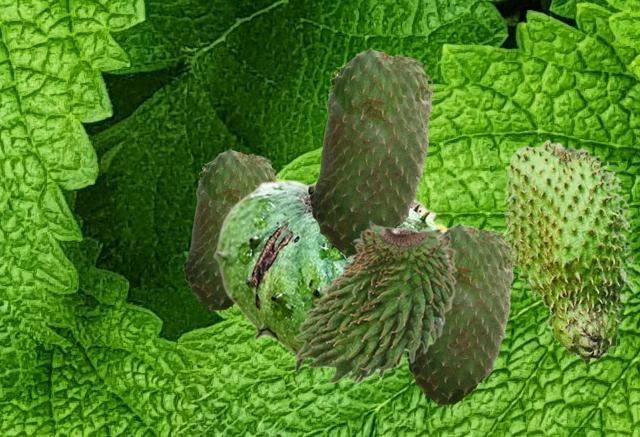guyabano: (213, 179, 447, 373), (501, 139, 635, 364), (293, 219, 457, 383), (308, 47, 434, 258), (405, 222, 515, 407), (182, 148, 279, 312)
